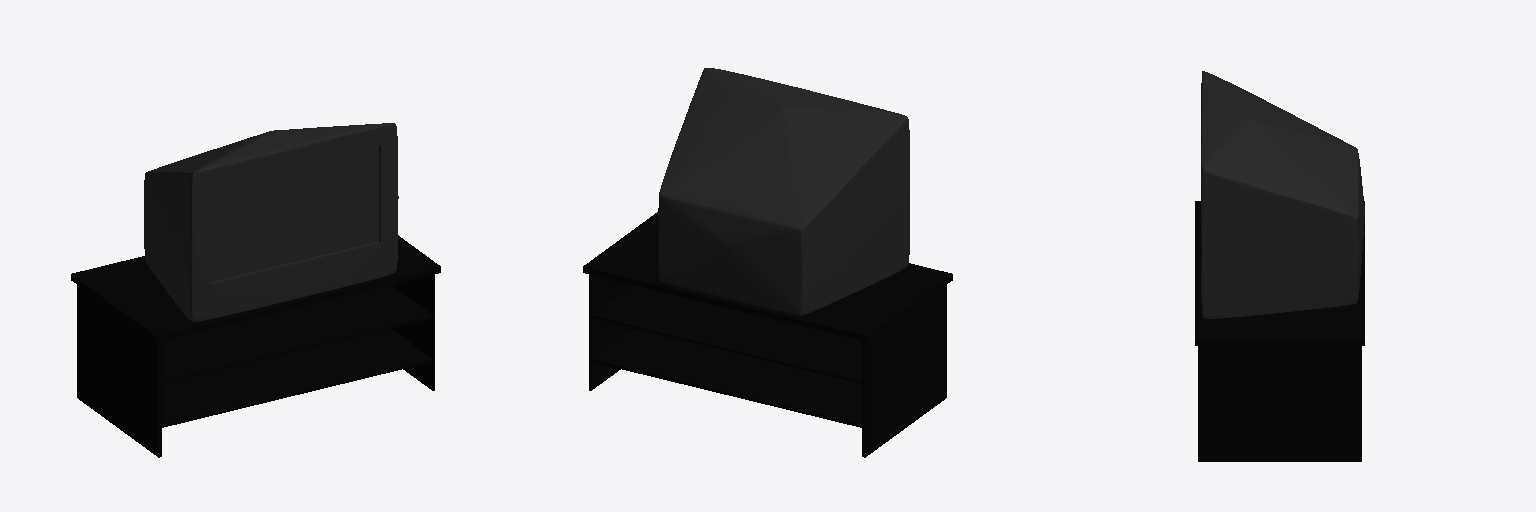
The picture shows the model from 3 angles: view 1: azimuth 30°, elevation 25°; view 2: azimuth 150°, elevation 25°; view 3: azimuth 270°, elevation 25°; orthographic projection.
Parts seen in each view (by area): view 1: TV_6, Etagere_3, Etagere_2_5, Montant_1_2, Etagere_1_4, Montant_1; view 2: TV_6, Etagere_3, Etagere_2_5, Etagere_1_4, Montant_1_2, Montant_1; view 3: TV_6, Montant_1, Etagere_1_4.
Boxes of the visible parts, x1=… form: TV_6: x1=144, y1=123, x2=398, y2=321; Etagere_3: x1=159, y1=329, x2=434, y2=428; Etagere_2_5: x1=159, y1=285, x2=434, y2=384; Montant_1_2: x1=77, y1=285, x2=161, y2=457; Etagere_1_4: x1=71, y1=235, x2=440, y2=341; Montant_1: x1=391, y1=274, x2=434, y2=390; TV_6: x1=658, y1=68, x2=909, y2=315; Etagere_3: x1=590, y1=329, x2=864, y2=428; Etagere_2_5: x1=590, y1=285, x2=864, y2=384; Etagere_1_4: x1=583, y1=212, x2=952, y2=341; Montant_1_2: x1=862, y1=285, x2=946, y2=457; Montant_1: x1=589, y1=274, x2=632, y2=390; TV_6: x1=1201, y1=71, x2=1364, y2=318; Montant_1: x1=1198, y1=346, x2=1361, y2=461; Etagere_1_4: x1=1195, y1=201, x2=1364, y2=345.
Bounding box in the file's own units: 100 × 92.71 × 52.07.